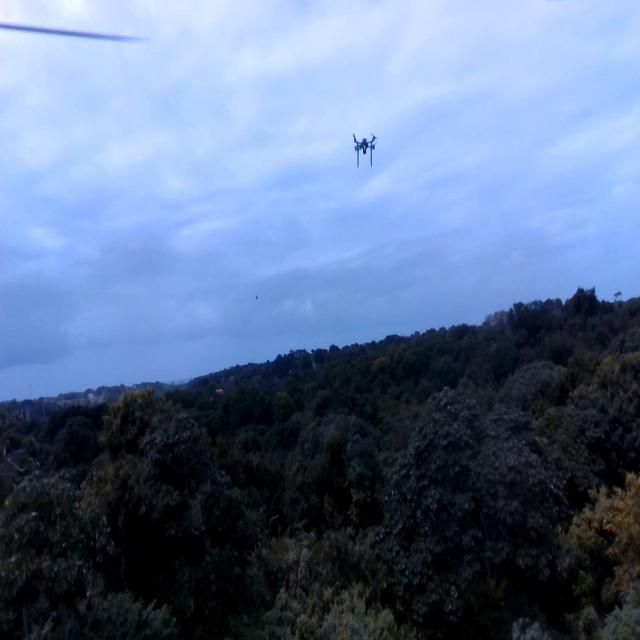-uav-: (346, 117, 382, 184)
